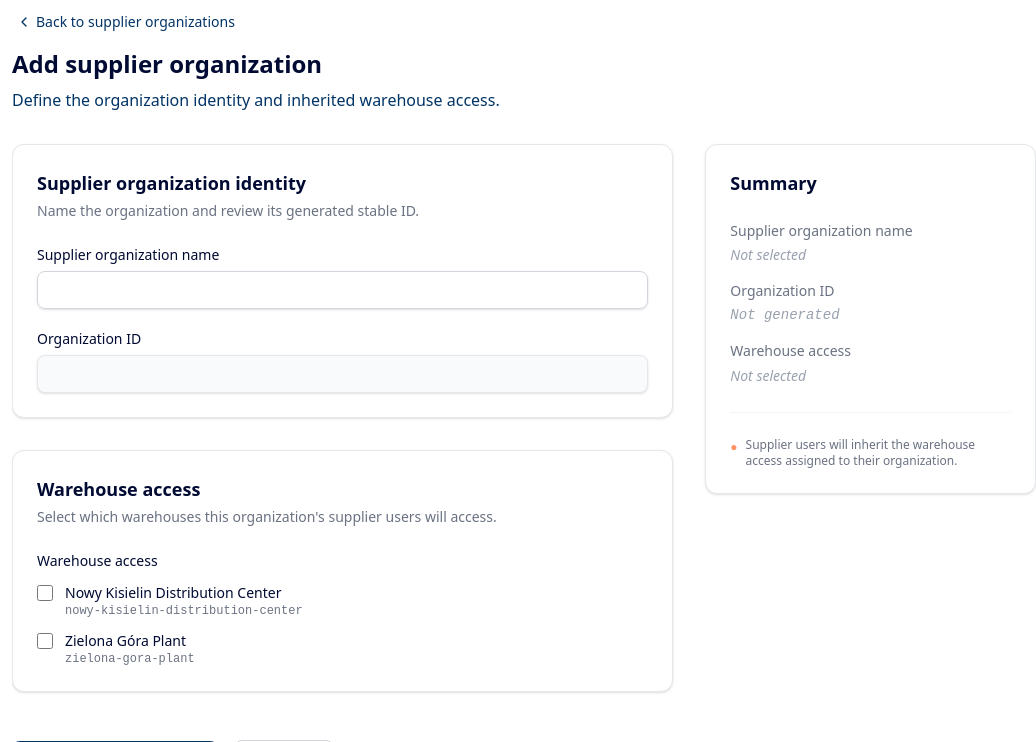
it: AddSupplierOrganizationPage › 6. updates the ID field and summary from the live name value;
This screenshot has width=1036, height=742.
Type "  Fresh Logistics Group  " into the field labelled "Supplier organization name". click: coordinates (343, 290)
box: [37,271,648,309]
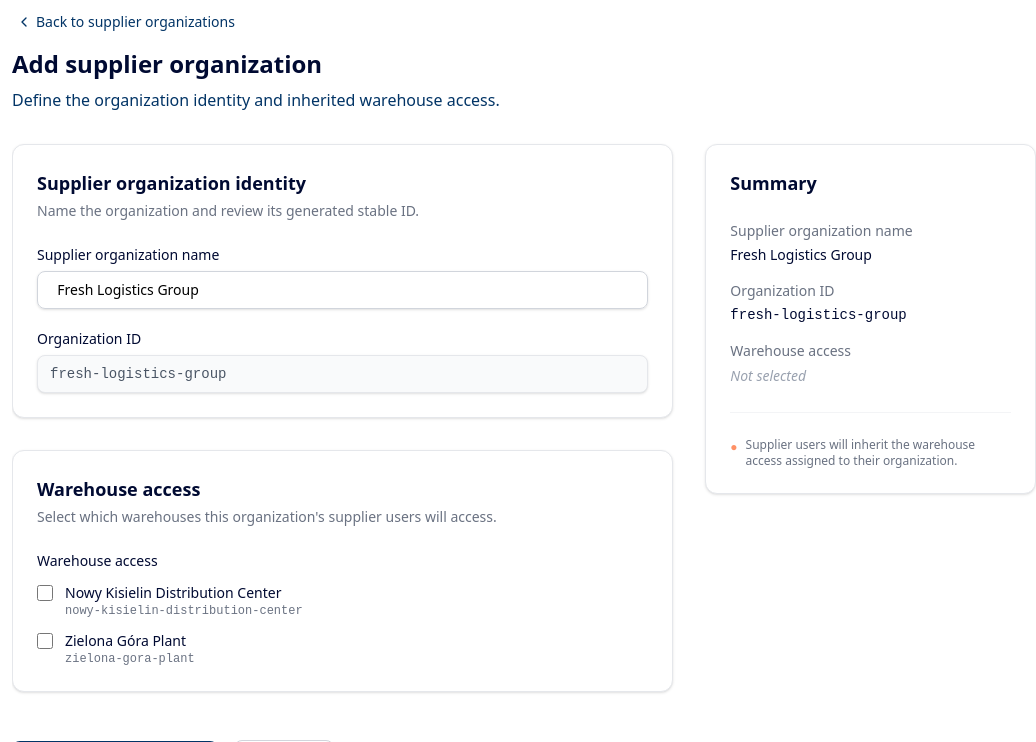
Expected: the field labelled "Organization ID" holds "fresh-logistics-group", [37,355,648,393]
Expected: the text "Fresh Logistics Group" is shown, [730,245,872,264]
Expected: the text "fresh-logistics-group" is shown, [730,307,907,323]
